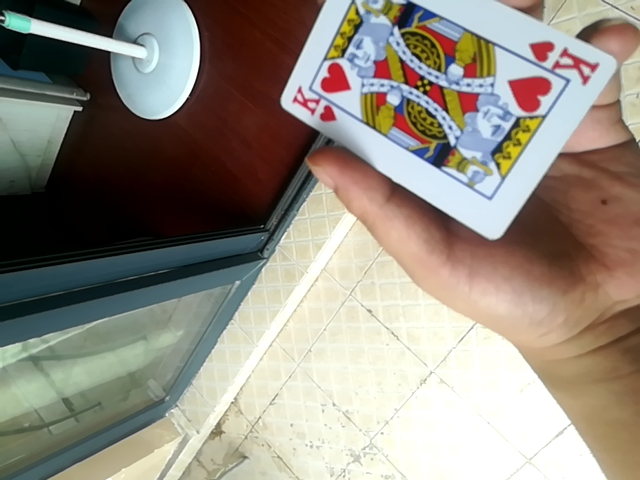hx k: (273, 1, 619, 247)
